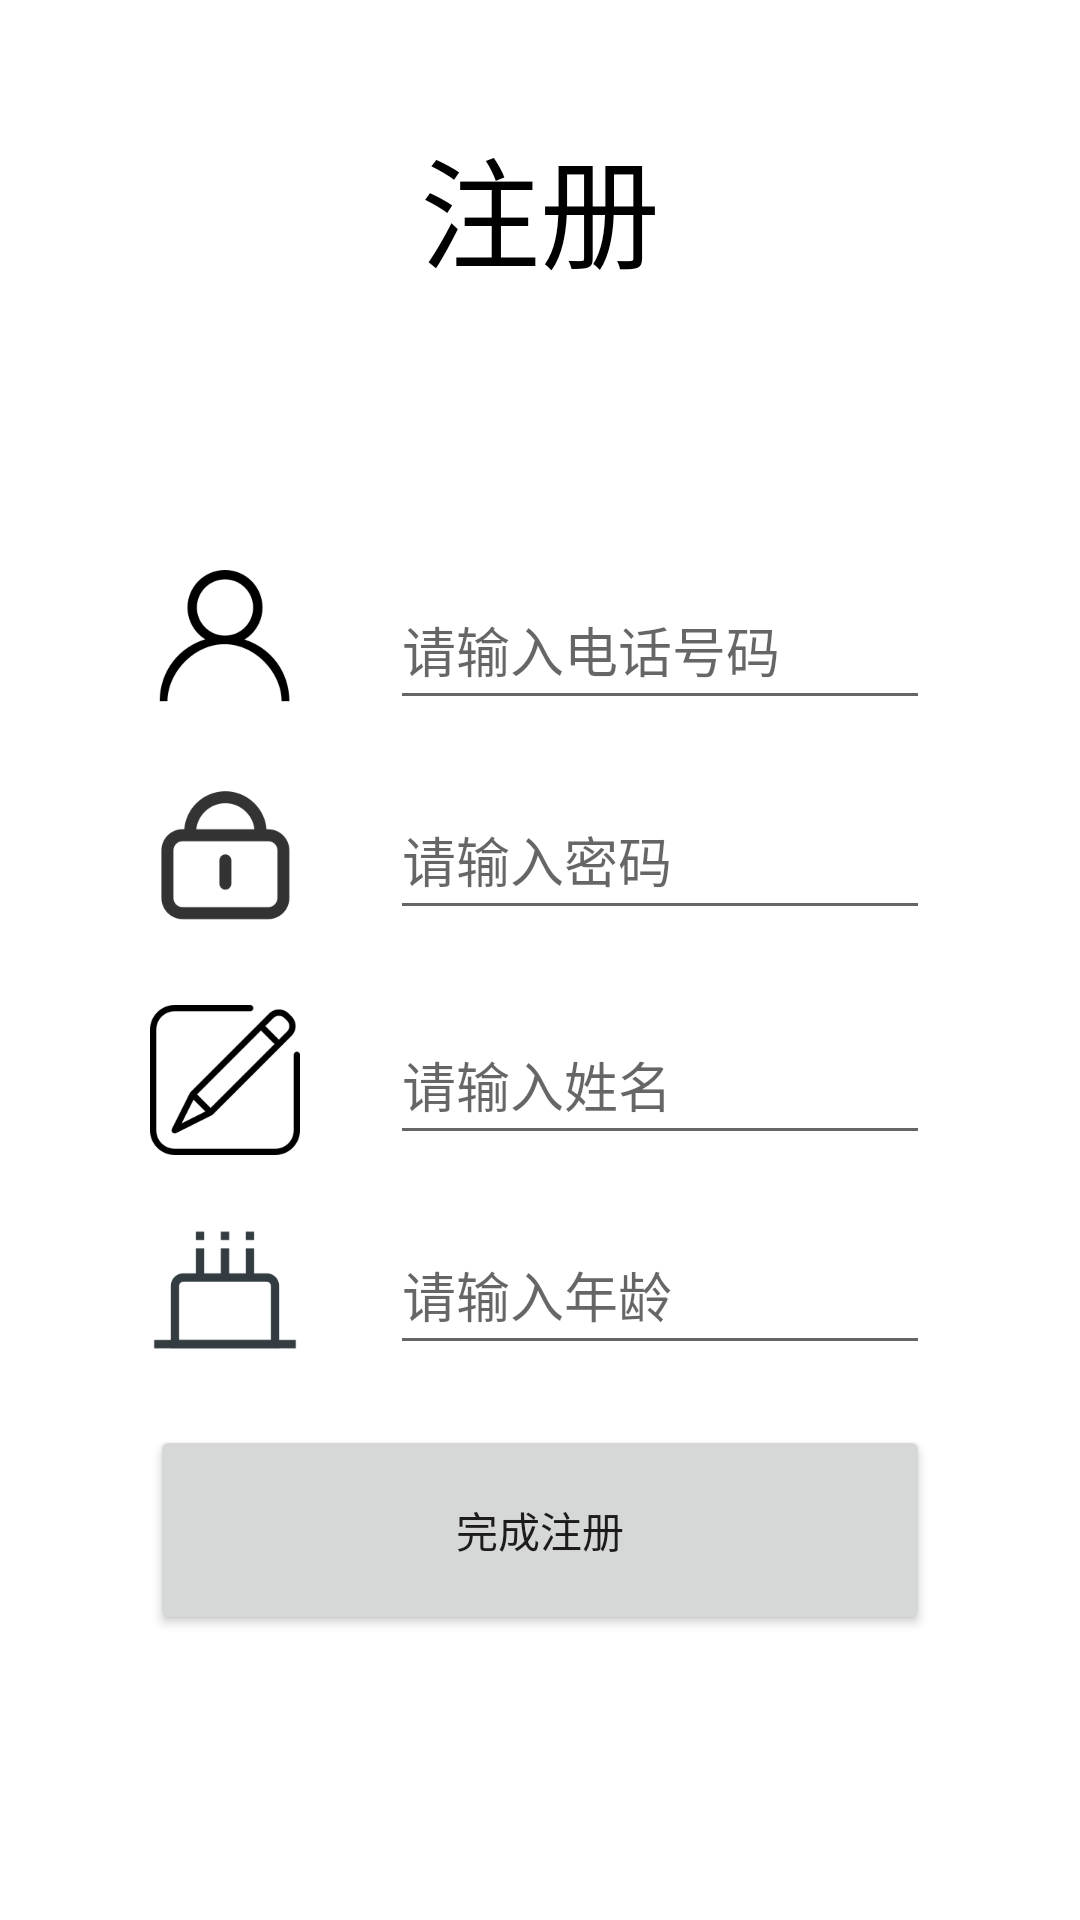

Icon click points for this 1080*1920 phone screenshot, format (x,y):
denglu: (224,636)
mima: (225,855)
nianling: (225,1290)
